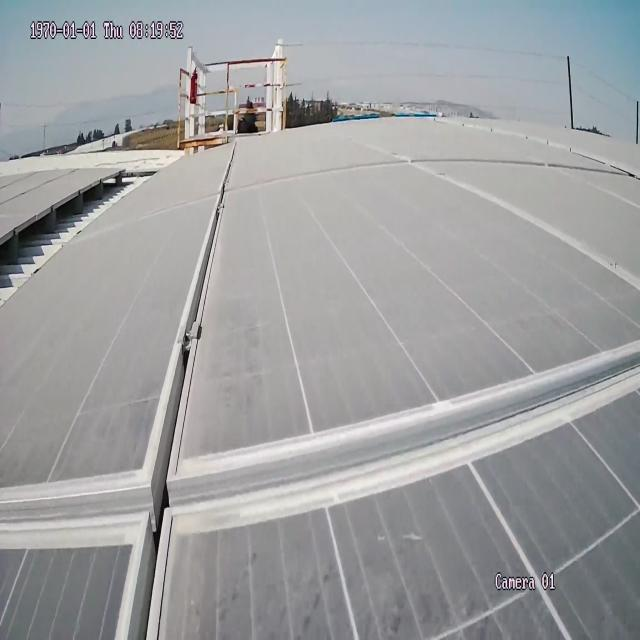interior panel: (0, 131, 640, 638), (401, 154, 640, 319)
outher panel: (0, 159, 184, 324)
